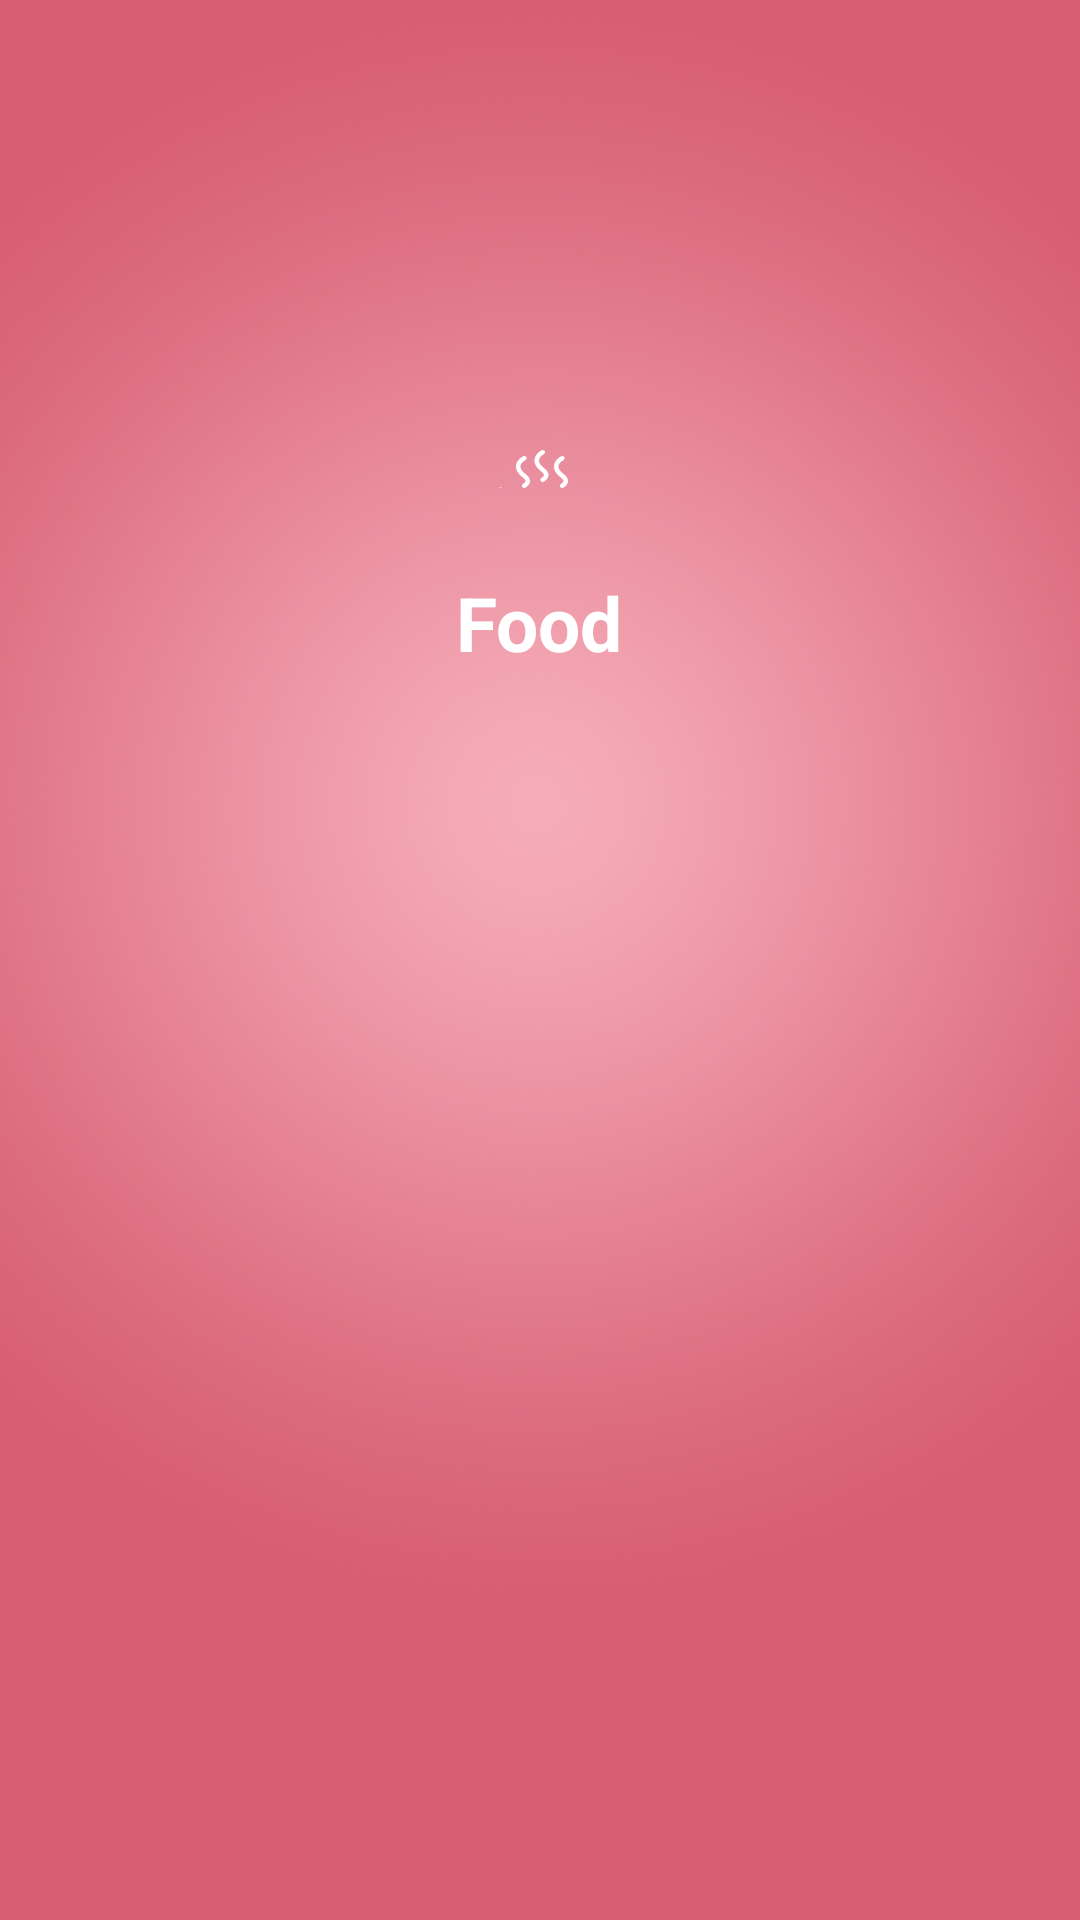

Icons on this 1080x1920 Android screen, each with its box as (x1, y1, x2, y2):
taste: (499, 450, 568, 488)
